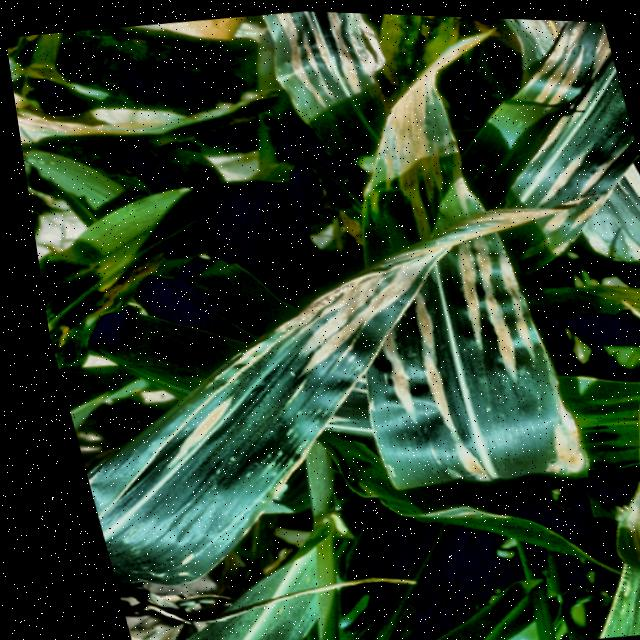blight: (87, 205, 570, 586)
